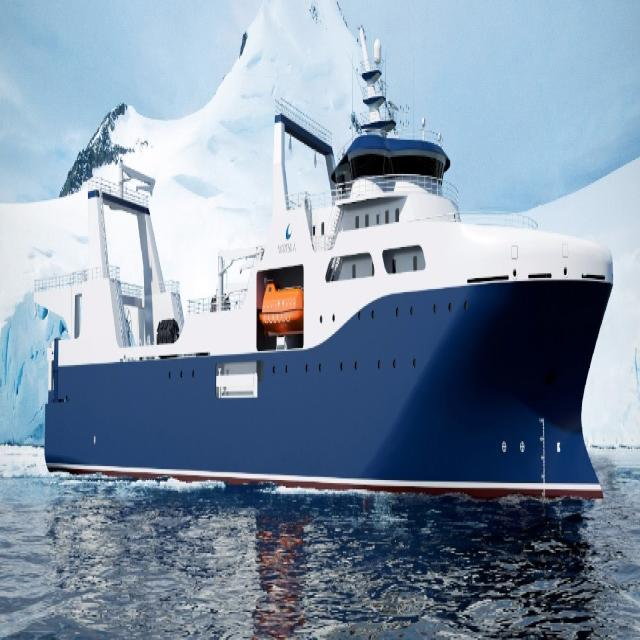boat: (28, 83, 636, 546)
